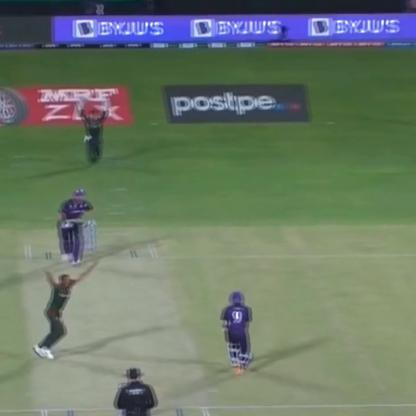pitch: (14, 242, 215, 416)
